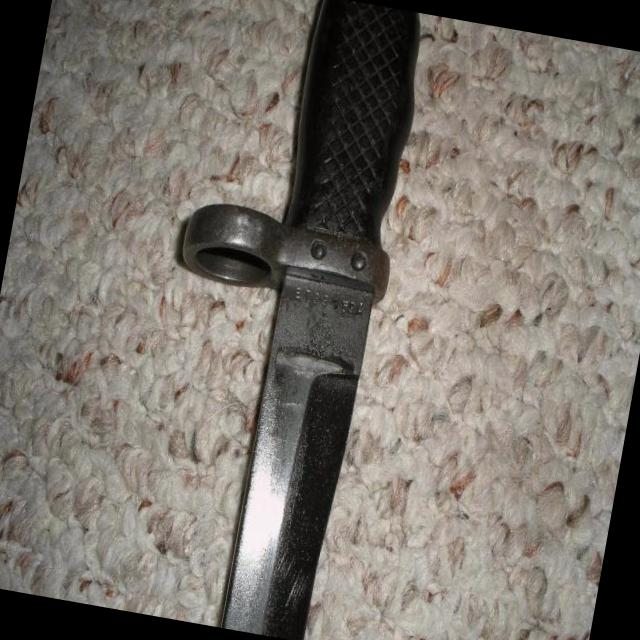Knife: (182, 0, 420, 640)
